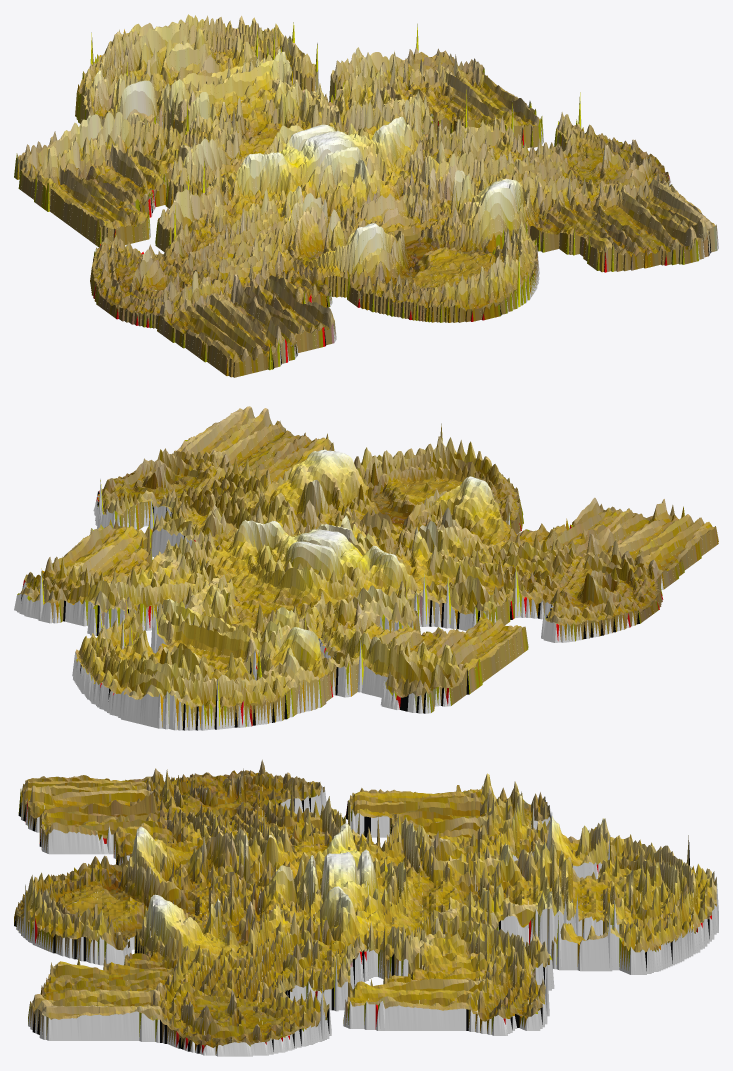
The model's file is crisFigure.glb.
The picture shows the model from 3 angles, top to bottom: view 1: azimuth 30°, elevation 25°; view 2: azimuth 150°, elevation 25°; view 3: azimuth 270°, elevation 25°; orthographic projection. The views are drawn at different scales.
Visible parts, largest first — view 1: imagetostl_mesh0; view 2: imagetostl_mesh0; view 3: imagetostl_mesh0.
Part boxes in pixels (x1=…): imagetostl_mesh0: x1=14, y1=14, x2=718, y2=377; imagetostl_mesh0: x1=14, y1=406, x2=718, y2=730; imagetostl_mesh0: x1=14, y1=759, x2=718, y2=1056.
Bounding box in the file's own units: 93.29 × 9.92 × 102.
